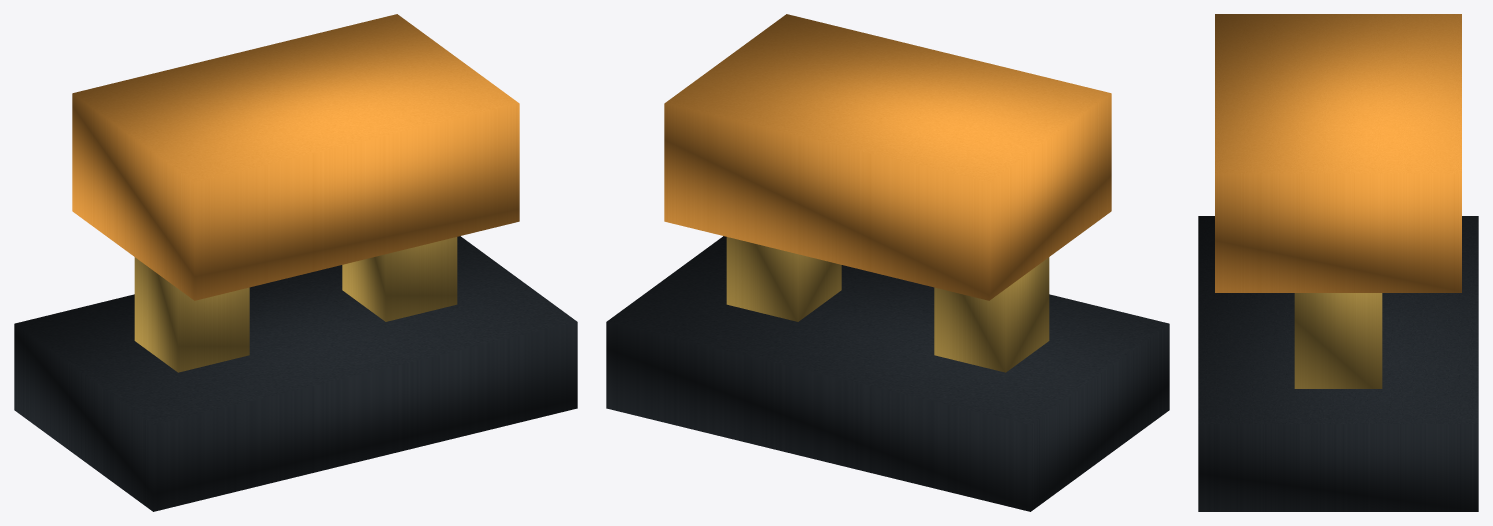
3 renders of one model, left to right at view 1: azimuth 30°, elevation 25°; view 2: azimuth 150°, elevation 25°; view 3: azimuth 270°, elevation 25°, orthographic.
Parts seen in each view (by area): view 1: L116_003__PSMAT__Warning_Amber, L116_000__PSMAT__Connector_Polymer, L116_001__PSMAT__Gold_ENIG, L116_002__PSMAT__Gold_ENIG; view 2: L116_003__PSMAT__Warning_Amber, L116_000__PSMAT__Connector_Polymer, L116_001__PSMAT__Gold_ENIG, L116_002__PSMAT__Gold_ENIG; view 3: L116_003__PSMAT__Warning_Amber, L116_000__PSMAT__Connector_Polymer, L116_002__PSMAT__Gold_ENIG.
Part boxes in pixels (left/top/right/bottom): L116_003__PSMAT__Warning_Amber: left=72, top=14, right=519, bottom=300; L116_000__PSMAT__Connector_Polymer: left=14, top=236, right=577, bottom=511; L116_001__PSMAT__Gold_ENIG: left=134, top=257, right=249, bottom=372; L116_002__PSMAT__Gold_ENIG: left=342, top=237, right=457, bottom=321; L116_003__PSMAT__Warning_Amber: left=664, top=14, right=1111, bottom=300; L116_000__PSMAT__Connector_Polymer: left=606, top=236, right=1169, bottom=511; L116_001__PSMAT__Gold_ENIG: left=934, top=257, right=1049, bottom=372; L116_002__PSMAT__Gold_ENIG: left=726, top=237, right=841, bottom=321; L116_003__PSMAT__Warning_Amber: left=1215, top=14, right=1461, bottom=292; L116_000__PSMAT__Connector_Polymer: left=1198, top=216, right=1478, bottom=511; L116_002__PSMAT__Gold_ENIG: left=1294, top=293, right=1382, bottom=388.
Size of the model in its own units: 0.00564 by 0.00395 by 0.0032.
Materials: 3 (3 with a texture image).
